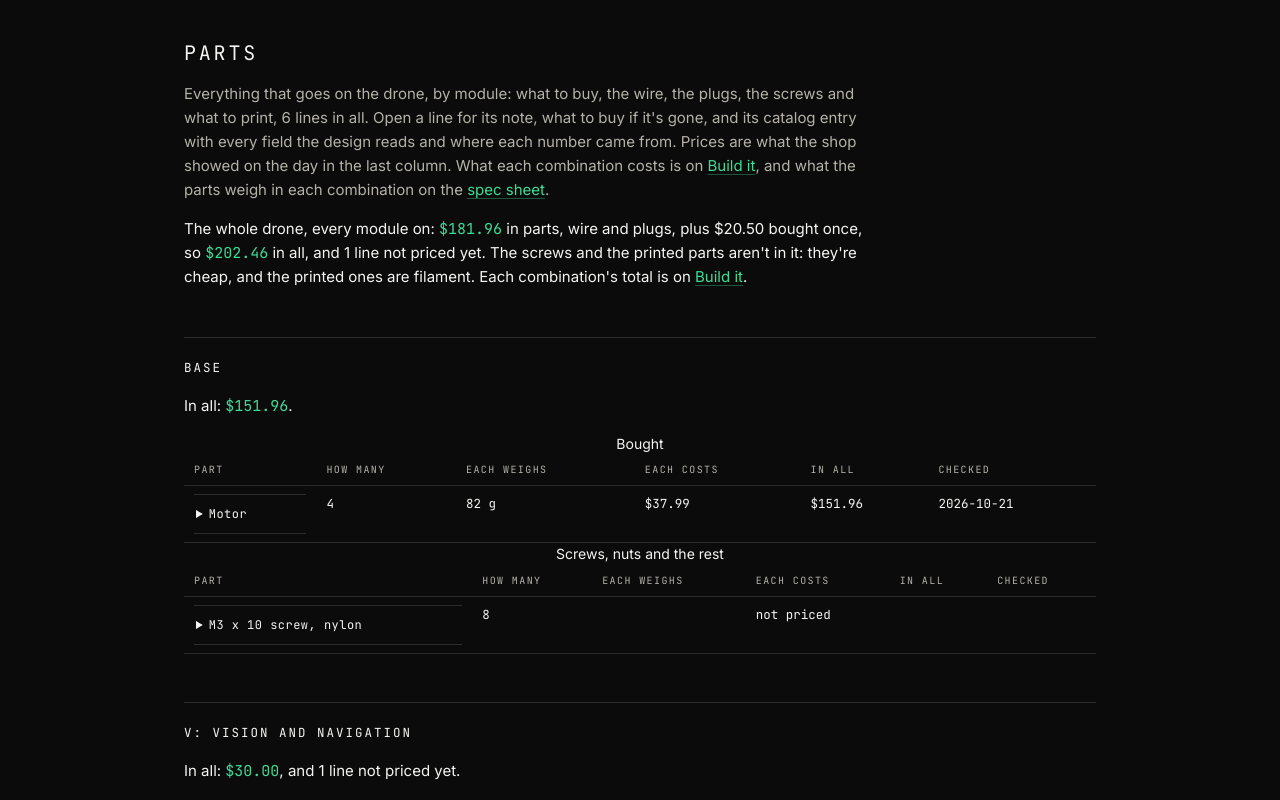
Test: a line opens to its note, its fallback with its links, and its catalog entry
The width and height of the screenshot is (1280, 800).
Click the heading "Motor".
click(228, 514)  # box [209,506,247,522]
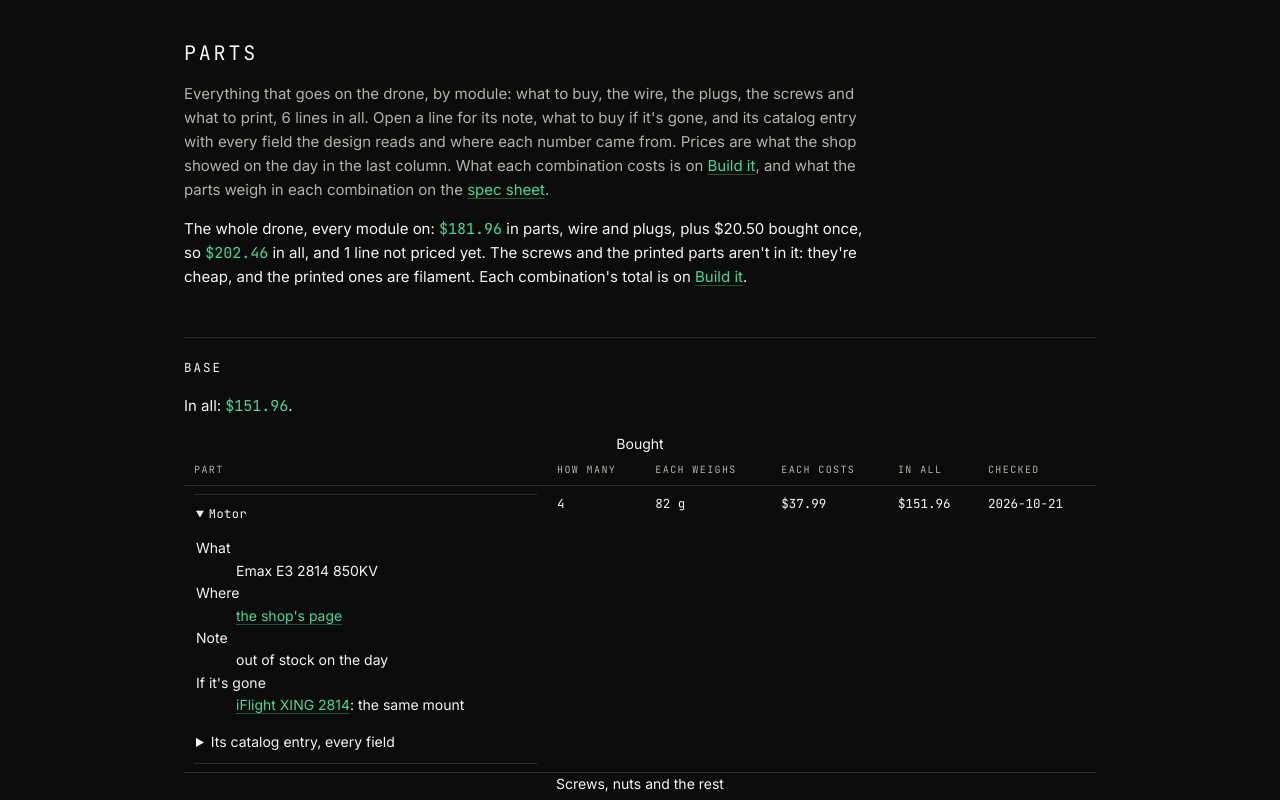
Now the text "out of stock on the day" is shown, box [236,651,388,668]
Now the heading "Its catalog entry, every field" is shown, box [211,732,395,750]
